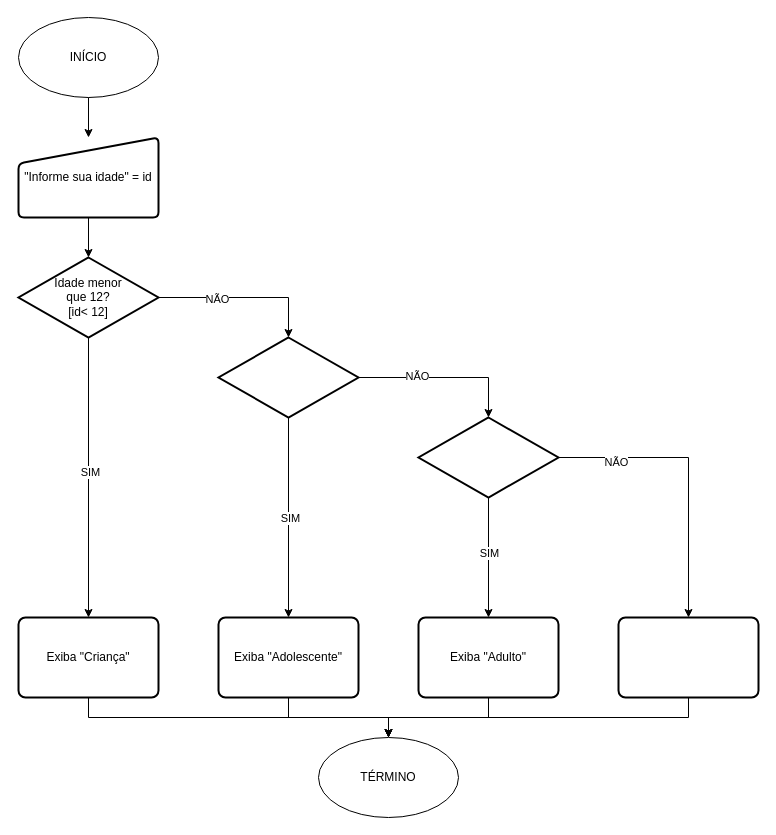
Some shapes in this 776 by 835 pixel diagram are drawn without their labels. Here are the shapes that lost their labels. From the top down, the centre of each, then its label:
the point at 288,377: Idade entre 13 e 17? [13 < id< 12]
the point at 488,457: Idade entre 18 e 59? [18 < id < 59]
the point at 688,657: Exiba "Idoso"
